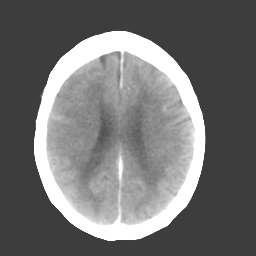ischemic: (48, 86, 90, 172)
